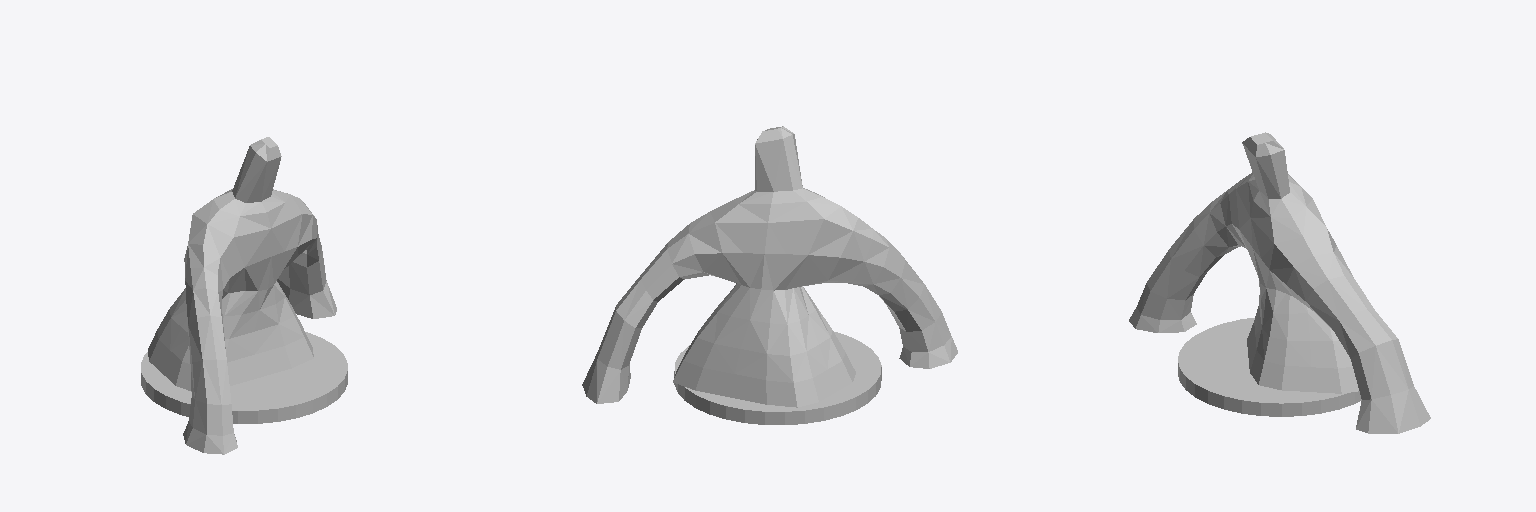
File: mudman.obj
The picture shows the model from 3 angles: view 1: azimuth 30°, elevation 25°; view 2: azimuth 150°, elevation 25°; view 3: azimuth 270°, elevation 25°; orthographic projection.
Parts seen in each view (by area): view 1: Cube2, Cylinder1; view 2: Cube2, Cylinder1; view 3: Cube2, Cylinder1.
Boxes of the visible parts, box(x1,y1,x2,y2) form: Cube2: box(148, 137, 336, 454); Cylinder1: box(141, 332, 347, 423); Cube2: box(582, 126, 957, 407); Cylinder1: box(674, 332, 881, 424); Cube2: box(1129, 132, 1430, 433); Cylinder1: box(1178, 318, 1361, 416).
Size of the model in its own units: 2.76 by 2.55 by 2.86.